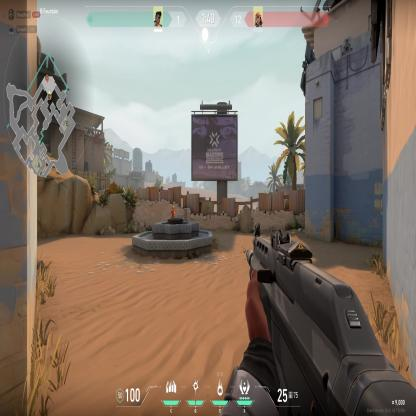enemy: (170, 206, 175, 218)
